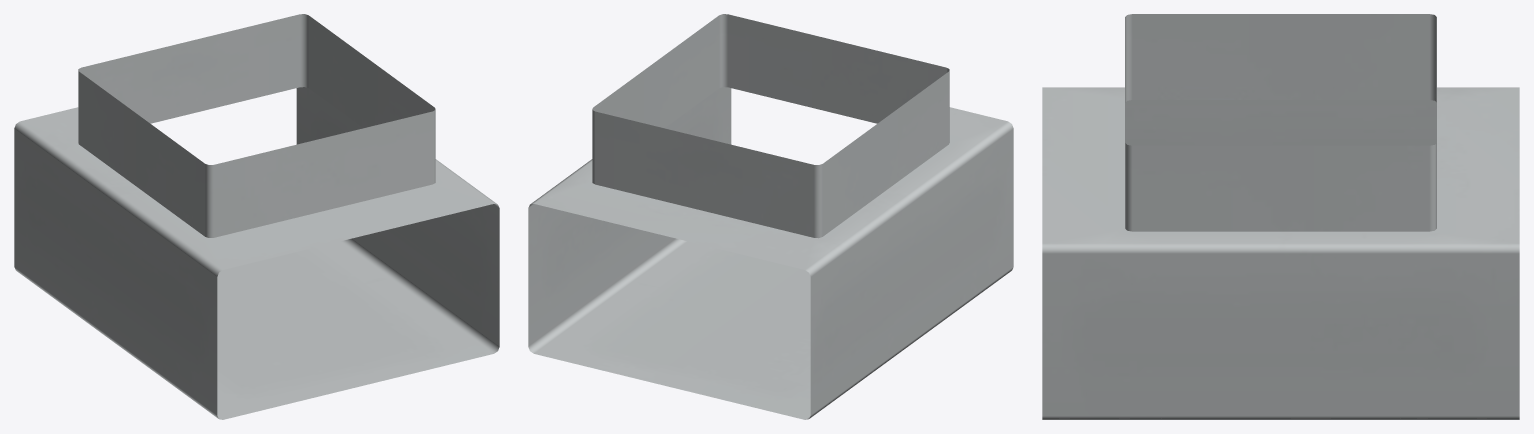
Rendered from top_branch.gltf.
3 renders of one model, left to right at view 1: azimuth 30°, elevation 25°; view 2: azimuth 150°, elevation 25°; view 3: azimuth 270°, elevation 25°, orthographic. The views are drawn at different scales.
Parts seen in each view (by area): view 1: top_branch; view 2: top_branch; view 3: top_branch.
Boxes of the visible parts, x1,y1,x2,y2 form: top_branch: [14, 14, 499, 419]; top_branch: [528, 14, 1013, 419]; top_branch: [1042, 14, 1519, 419].
Size of the model in its own units: 0.7569 by 0.5711 by 0.9422.
1 material, 1 textured.
